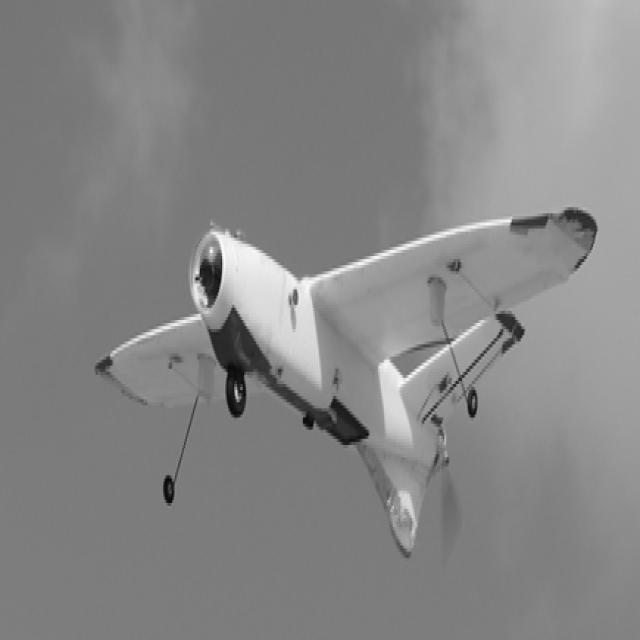iha: (32, 207, 595, 555)
